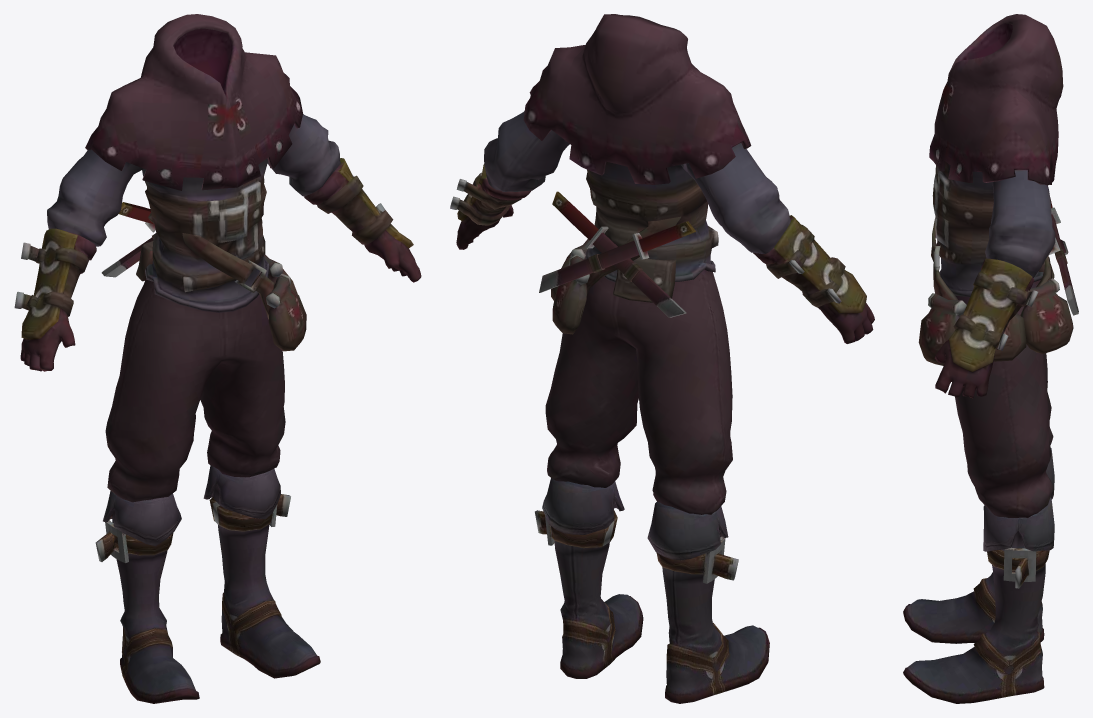
File: outfit1.glb
The picture shows the model from 3 angles, left to right: view 1: azimuth 30°, elevation 25°; view 2: azimuth 150°, elevation 25°; view 3: azimuth 270°, elevation 25°; orthographic projection. The views are drawn at different scales.
Parts seen in each view (by area): view 1: Wolf3D_Outfit_Top, Wolf3D_Outfit_Bottom, Wolf3D_Outfit_Footwear; view 2: Wolf3D_Outfit_Top, Wolf3D_Outfit_Bottom, Wolf3D_Outfit_Footwear; view 3: Wolf3D_Outfit_Top, Wolf3D_Outfit_Footwear, Wolf3D_Outfit_Bottom.
Part boxes in pixels (bbox=[...]): Wolf3D_Outfit_Top: bbox=[14, 14, 421, 371]; Wolf3D_Outfit_Bottom: bbox=[105, 279, 285, 502]; Wolf3D_Outfit_Footwear: bbox=[95, 465, 320, 703]; Wolf3D_Outfit_Top: bbox=[450, 14, 874, 343]; Wolf3D_Outfit_Bottom: bbox=[545, 269, 732, 514]; Wolf3D_Outfit_Footwear: bbox=[535, 478, 769, 703]; Wolf3D_Outfit_Top: bbox=[918, 14, 1078, 398]; Wolf3D_Outfit_Footwear: bbox=[903, 448, 1054, 703]; Wolf3D_Outfit_Bottom: bbox=[955, 276, 1053, 517].
Size of the model in its own units: 1.06 by 1.67 by 0.414.
Materials: 3 (3 with a texture image).
